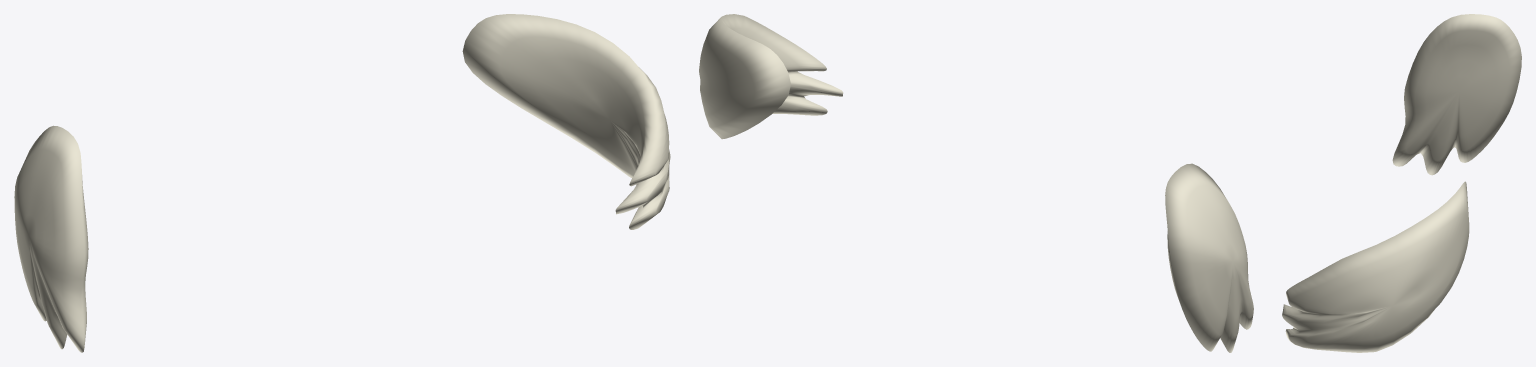
File: goose-weapon-wings-ready-only.glb
3 renders of one model, left to right at view 1: azimuth 30°, elevation 25°; view 2: azimuth 150°, elevation 25°; view 3: azimuth 270°, elevation 25°, orthographic. The views are drawn at different scales.
Parts seen in each view (by area): view 1: goose_rightArm_mesh, goose_leftArm_mesh; view 2: goose_leftArm_mesh, goose_rightArm_mesh; view 3: goose_rightArm_mesh, goose_leftArm_mesh.
Boxes of the visible parts, x1,y1,x2,y2 form: goose_rightArm_mesh: (462,14,670,229); goose_leftArm_mesh: (14,125,88,352); goose_leftArm_mesh: (1165,163,1253,352); goose_rightArm_mesh: (699,14,843,139); goose_rightArm_mesh: (1282,181,1469,352); goose_leftArm_mesh: (1392,14,1521,175).
Bounding box in the file's own units: 1.26 × 0.4434 × 0.5109.
